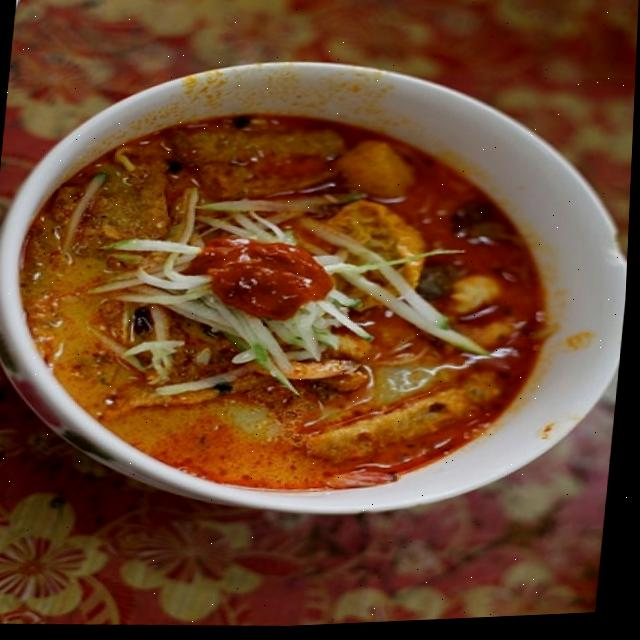面条主食: (0, 16, 628, 617)
